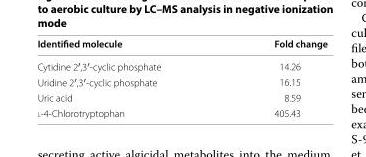table: (36, 36, 327, 118)
table column: (36, 36, 216, 118), (216, 36, 327, 118)
table column header: (36, 36, 327, 54)
table row: (36, 54, 327, 73), (36, 36, 327, 54), (36, 73, 327, 89), (36, 89, 327, 105), (36, 105, 327, 118)
